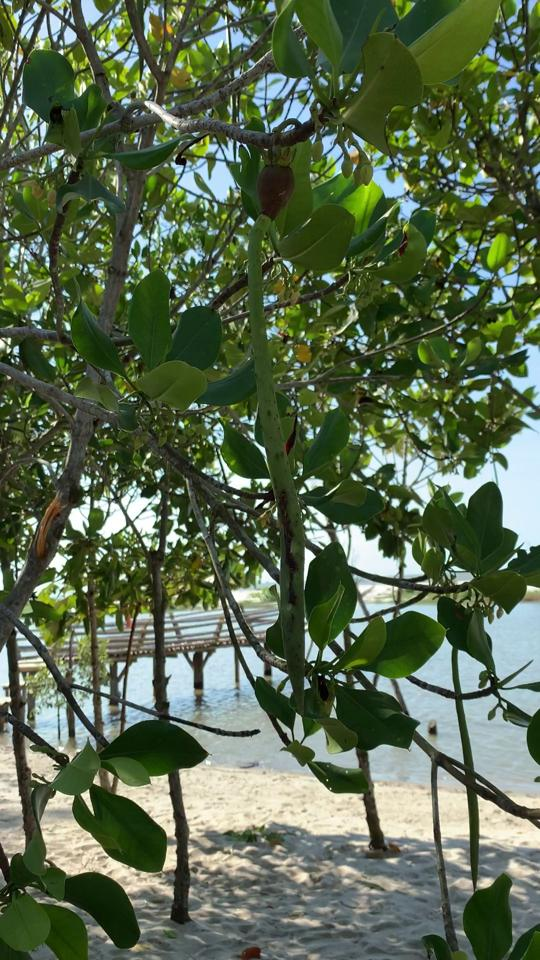setengah matang: (228, 136, 330, 729)
